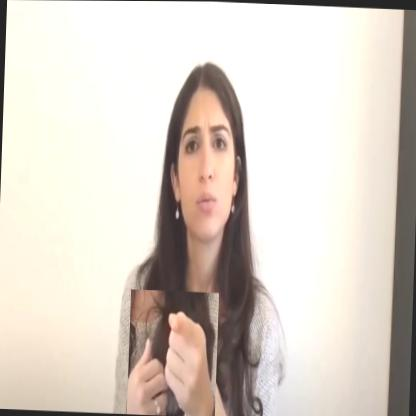HowAreYou: (127, 289, 219, 416)
